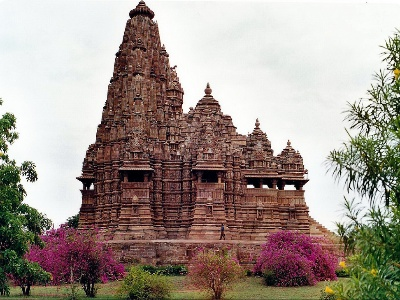amalaka: (120, 3, 162, 21)
gopuram: (100, 15, 184, 143)
mandapa: (242, 165, 318, 201), (111, 161, 159, 190)
